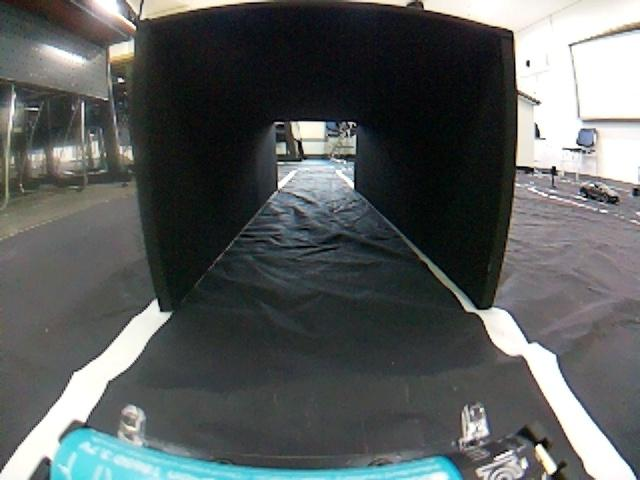straight: (4, 30, 640, 480)
